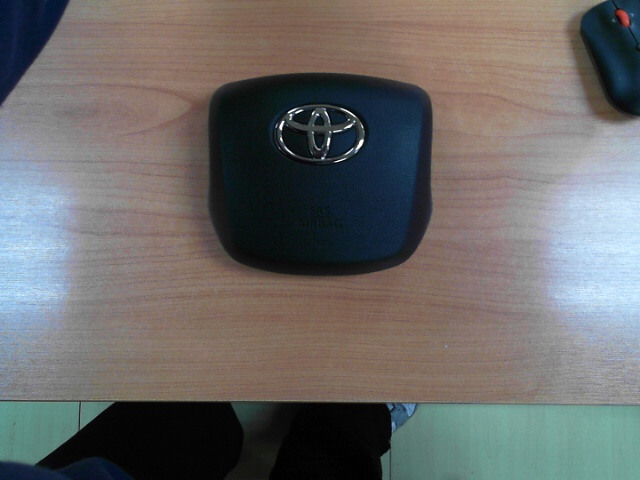Airbag: (209, 74, 431, 274)
